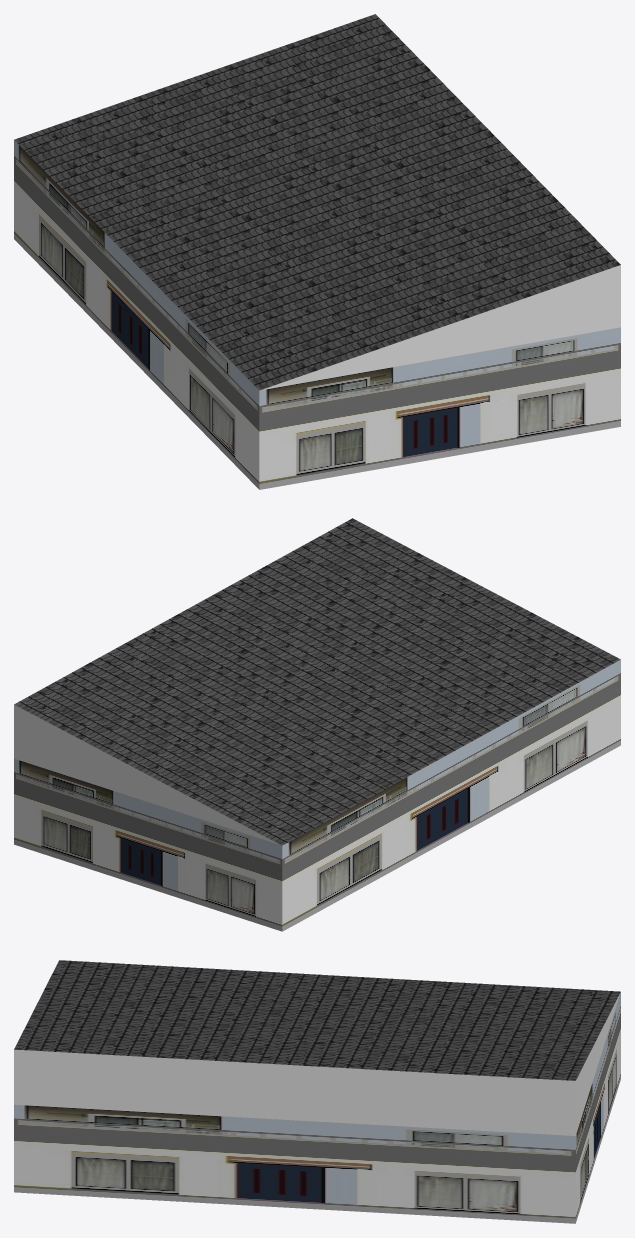
The picture shows the model from 3 angles, top to bottom: view 1: azimuth 30°, elevation 25°; view 2: azimuth 150°, elevation 25°; view 3: azimuth 270°, elevation 25°; orthographic projection. The views are drawn at different scales.
Parts seen in each view (by area): view 1: CityEngineMaterial_8_m, CityEngineMaterial_7_m, CityEngineMaterial_3_m; view 2: CityEngineMaterial_8_m, CityEngineMaterial_7_m, CityEngineMaterial_3_m; view 3: CityEngineMaterial_7_m, CityEngineMaterial_8_m, CityEngineMaterial_3_m.
Boxes of the visible parts, left/top/right/bottom form: CityEngineMaterial_8_m: left=14, top=14, right=620, bottom=390; CityEngineMaterial_7_m: left=14, top=140, right=620, bottom=489; CityEngineMaterial_3_m: left=261, top=265, right=620, bottom=390; CityEngineMaterial_8_m: left=14, top=518, right=620, bottom=845; CityEngineMaterial_7_m: left=14, top=659, right=620, bottom=931; CityEngineMaterial_3_m: left=14, top=704, right=281, bottom=845; CityEngineMaterial_7_m: left=14, top=992, right=620, bottom=1223; CityEngineMaterial_8_m: left=14, top=960, right=620, bottom=1080; CityEngineMaterial_3_m: left=14, top=993, right=620, bottom=1135.
Size of the model in its own units: 28.23 by 10.68 by 41.15.
